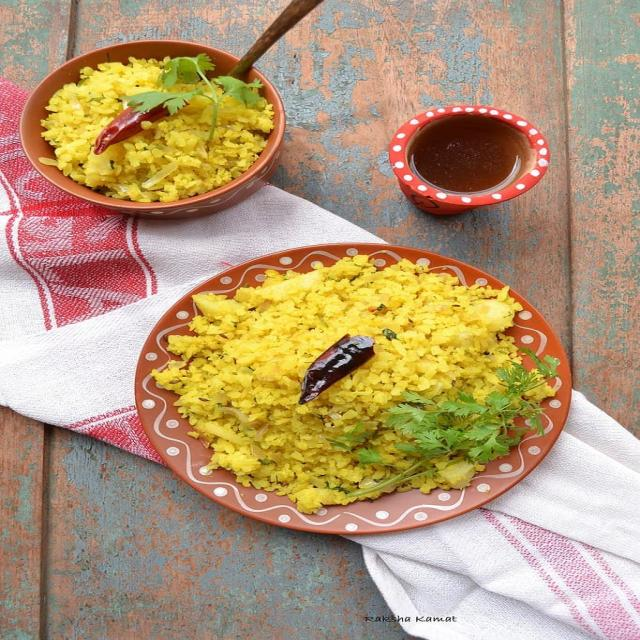POHA: (154, 253, 556, 504), (40, 57, 272, 200)
